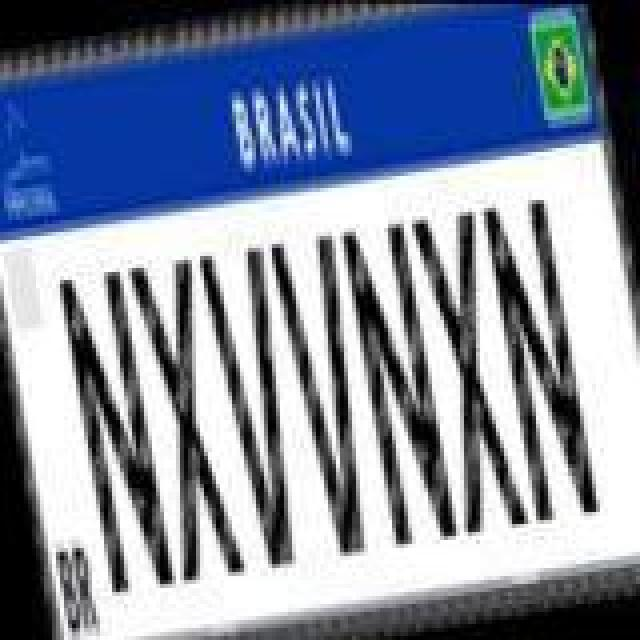N: (338, 214, 462, 550), (54, 266, 178, 598), (478, 194, 602, 526)
V: (194, 242, 318, 578), (266, 226, 390, 562)
X: (122, 250, 246, 586), (410, 204, 534, 536)
